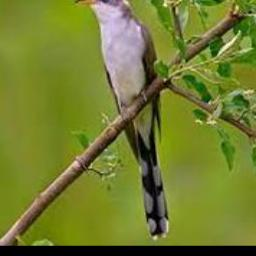Cuckoo: (75, 0, 170, 240)
